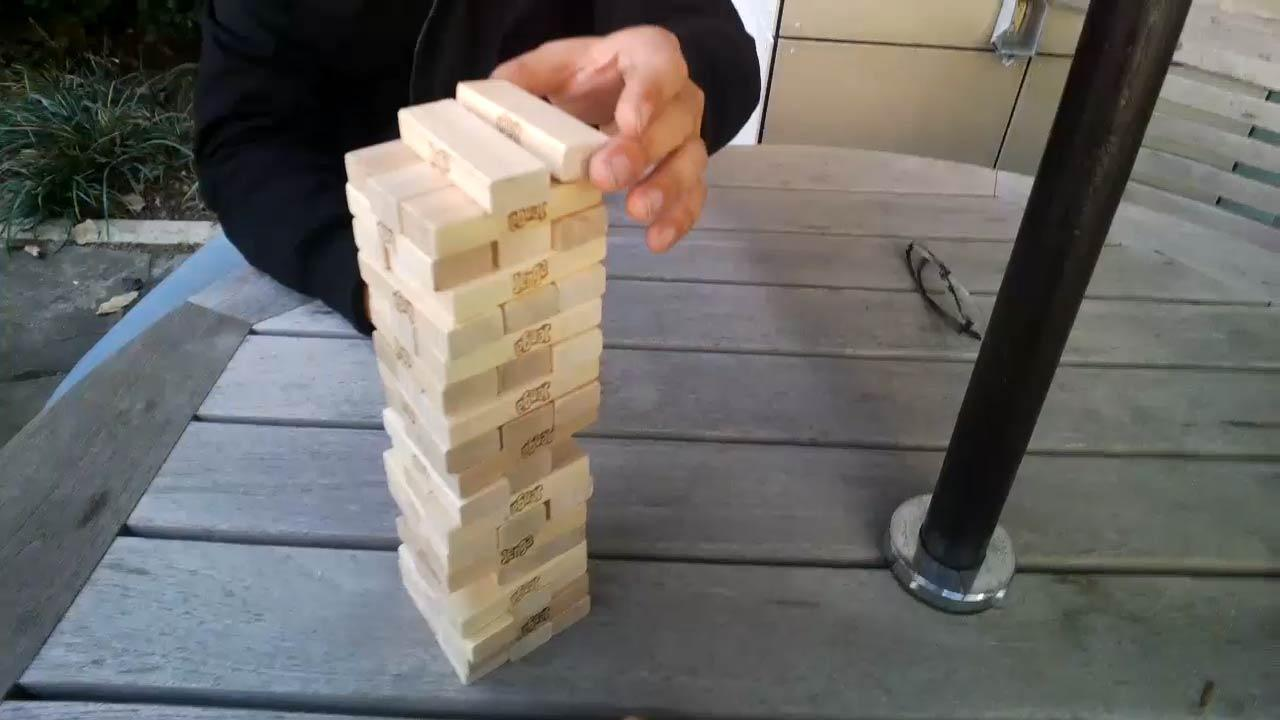hand: (490, 24, 712, 254)
